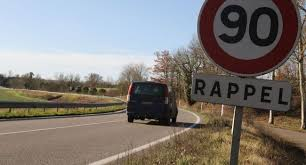Speed_limit_90km: (196, 1, 300, 75)
car: (127, 80, 181, 125)
